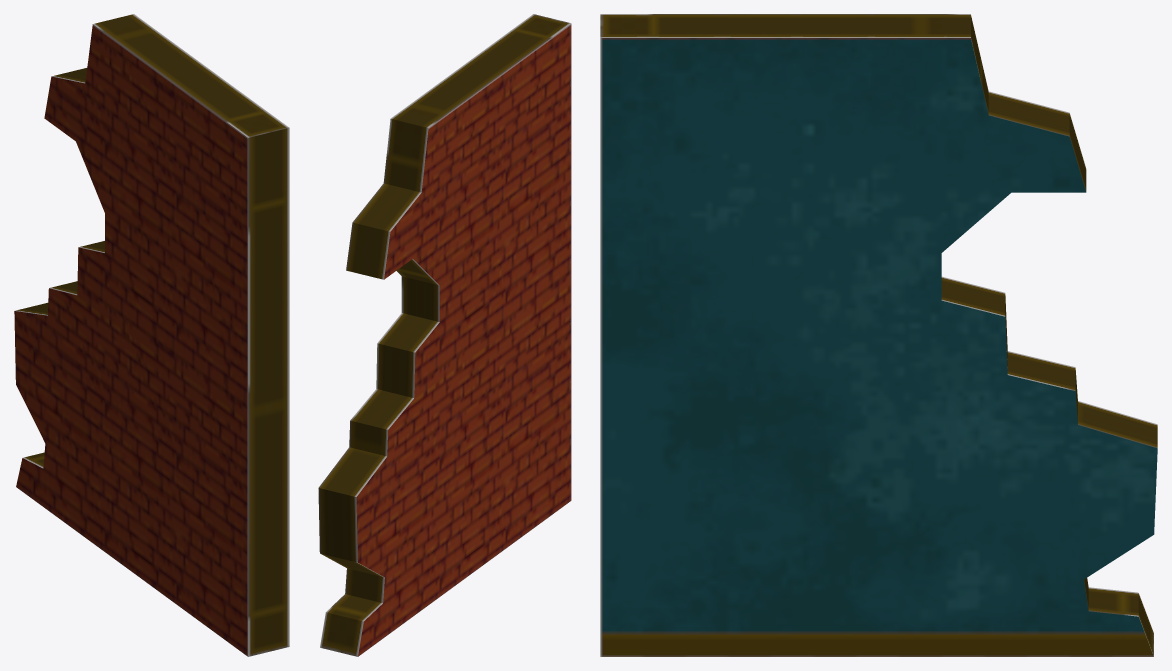
Rendered from Wall_Broken_R_01.fbx.
3 views of the same model, side by side, from view 1: azimuth 30°, elevation 25°; view 2: azimuth 150°, elevation 25°; view 3: azimuth 270°, elevation 25° (orthographic). The views are drawn at different scales.
Parts seen in each view (by area): view 1: Wall_Broken_R_01; view 2: Wall_Broken_R_01; view 3: Wall_Broken_R_01.
Part boxes in pixels (x1,y1,x2,y2): Wall_Broken_R_01: (14,14,289,656); Wall_Broken_R_01: (318,14,571,656); Wall_Broken_R_01: (600,14,1157,656).
Bounding box in the file's own units: 50 × 600 × 490.
